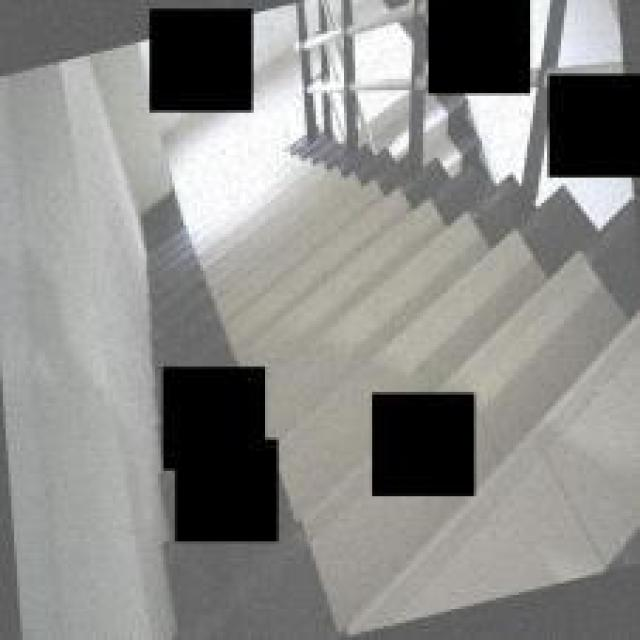downstair: (212, 210, 441, 345)
